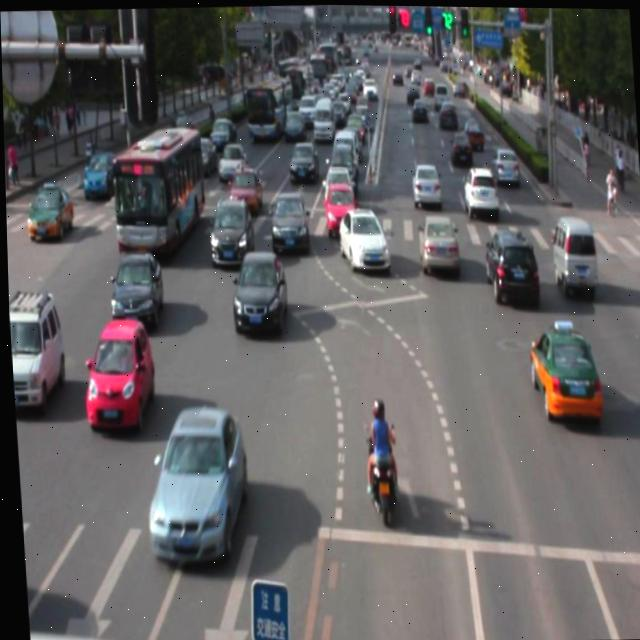car: (137, 400, 247, 560), (79, 314, 154, 429), (524, 321, 598, 419), (228, 246, 282, 329), (481, 227, 536, 303), (108, 252, 162, 325), (333, 206, 389, 272), (207, 198, 250, 263), (415, 212, 457, 272), (268, 191, 308, 253)
truck: (548, 212, 596, 292)
van: (110, 125, 205, 258), (26, 627, 125, 640)
